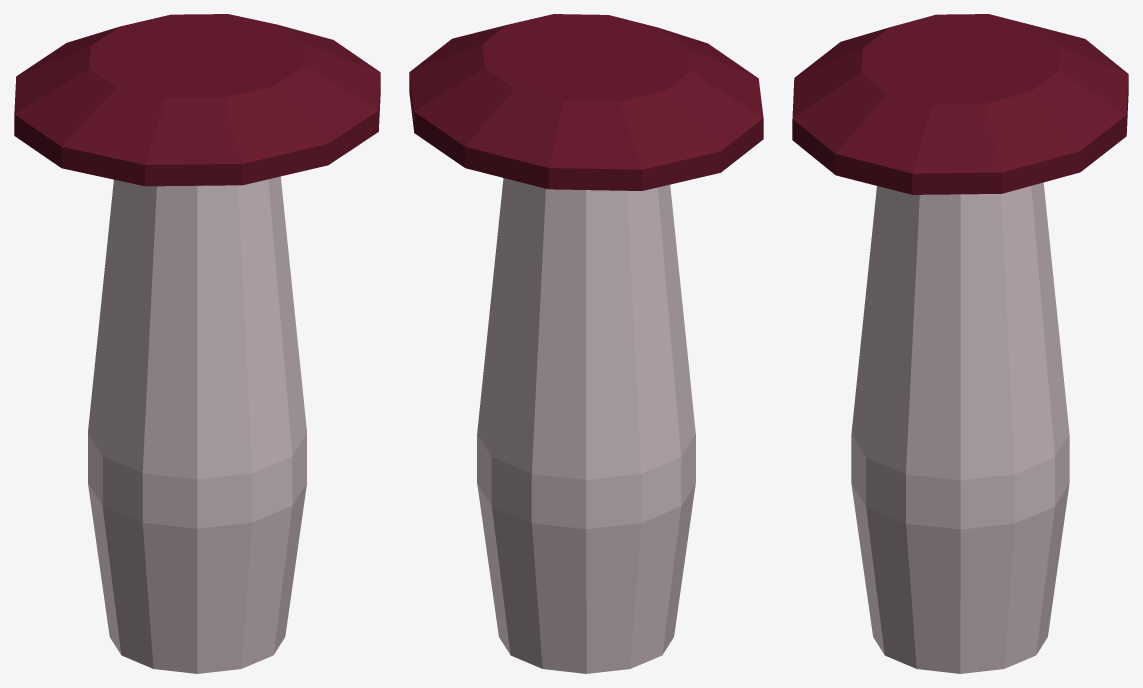
The model's file is grzyb1.fbx.
The picture shows the model from 3 angles, left to right: view 1: azimuth 30°, elevation 25°; view 2: azimuth 150°, elevation 25°; view 3: azimuth 270°, elevation 25°; orthographic projection.
Parts seen in each view (by area): view 1: Cylinder, Cylinder.001; view 2: Cylinder, Cylinder.001; view 3: Cylinder, Cylinder.001.
Part boxes in pixels (x1,y1,x2,y2): Cylinder: (88, 176, 306, 673); Cylinder.001: (14, 14, 380, 186); Cylinder: (477, 178, 695, 673); Cylinder.001: (409, 14, 763, 190); Cylinder: (851, 182, 1069, 673); Cylinder.001: (792, 14, 1128, 194).
Size of the model in its own units: 418 by 729 by 385.
